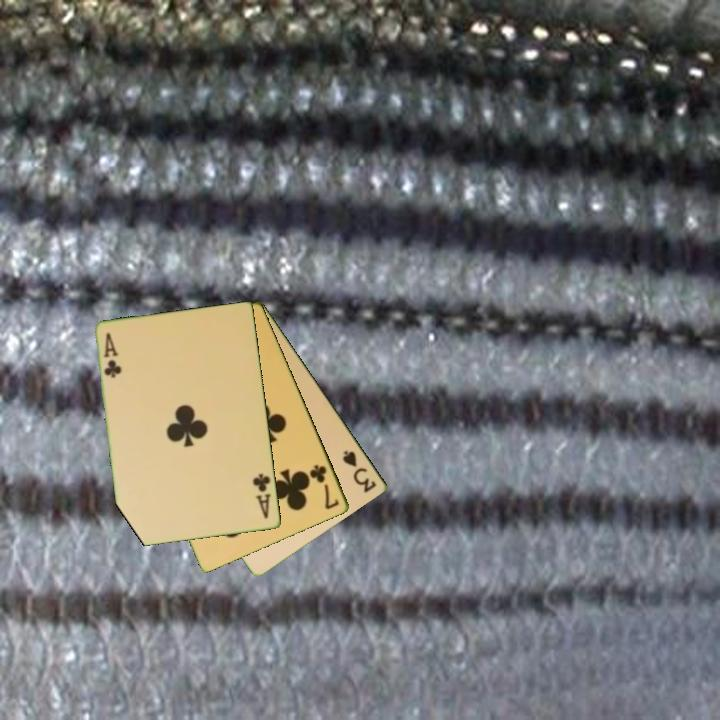3s: (339, 447, 380, 496)
7c: (307, 461, 343, 513)
Ac: (100, 329, 125, 381), (250, 470, 274, 521)
